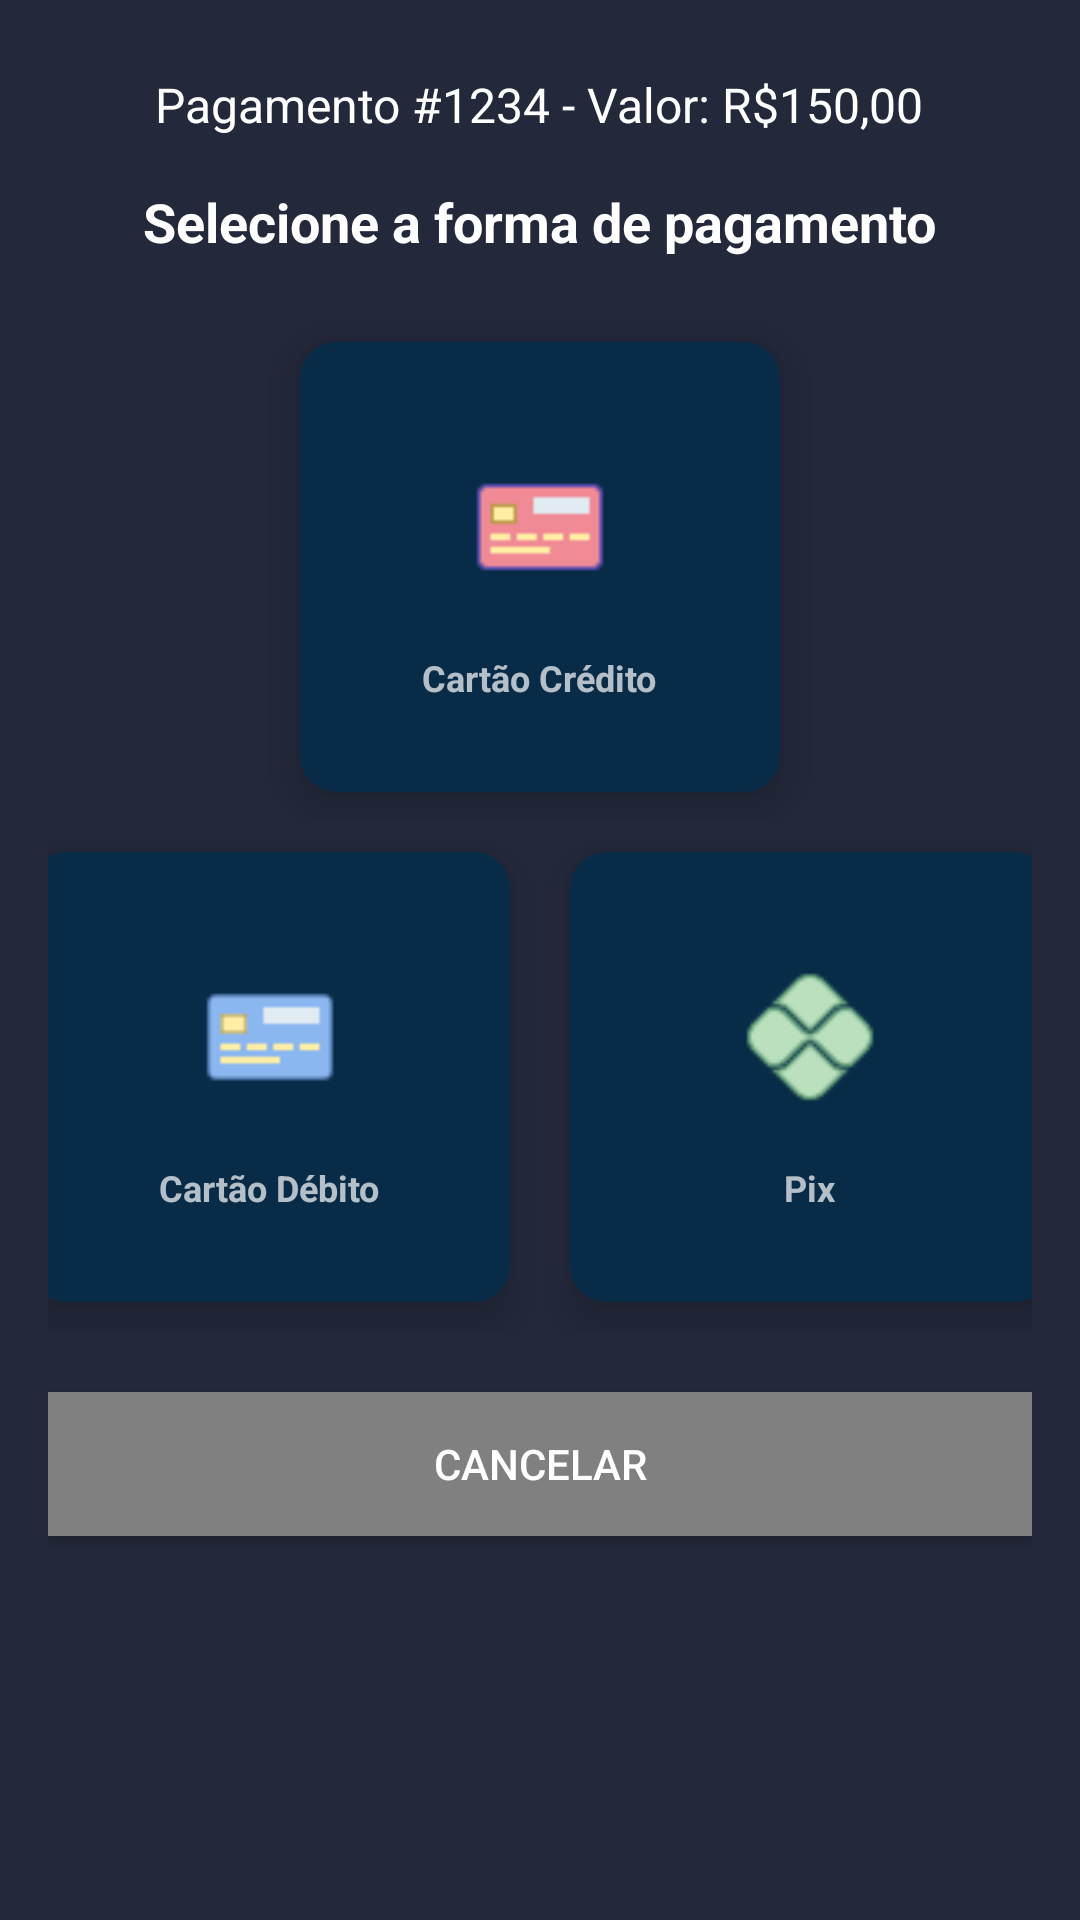

Screen size 1080 × 1920. Icon name, then its center in pixels as (x,y):
iccredit: (540,527)
icdebit: (270,1037)
